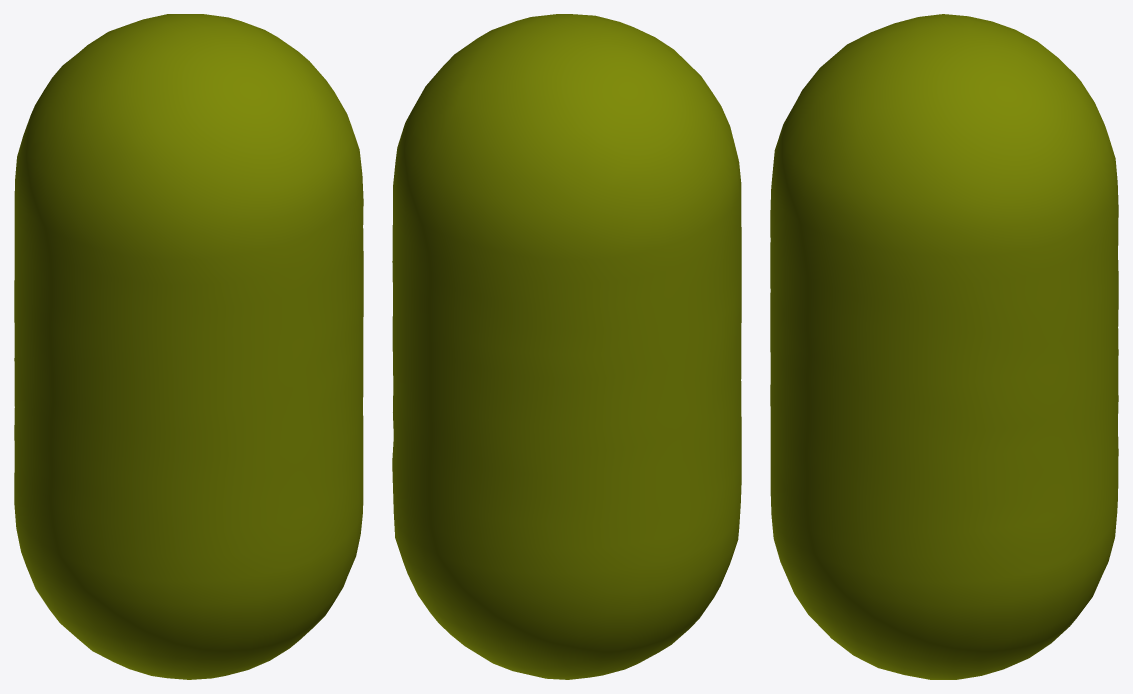
3 renders of one model, left to right at view 1: azimuth 30°, elevation 25°; view 2: azimuth 150°, elevation 25°; view 3: azimuth 270°, elevation 25°, orthographic.
Parts seen in each view (by area): view 1: Capsule; view 2: Capsule; view 3: Capsule.
Part boxes in pixels (x1=…): Capsule: x1=14, y1=14, x2=363, y2=679; Capsule: x1=392, y1=14, x2=741, y2=679; Capsule: x1=770, y1=14, x2=1118, y2=679.
Bounding box in the file's own units: 28.7 × 57.23 × 28.66.
